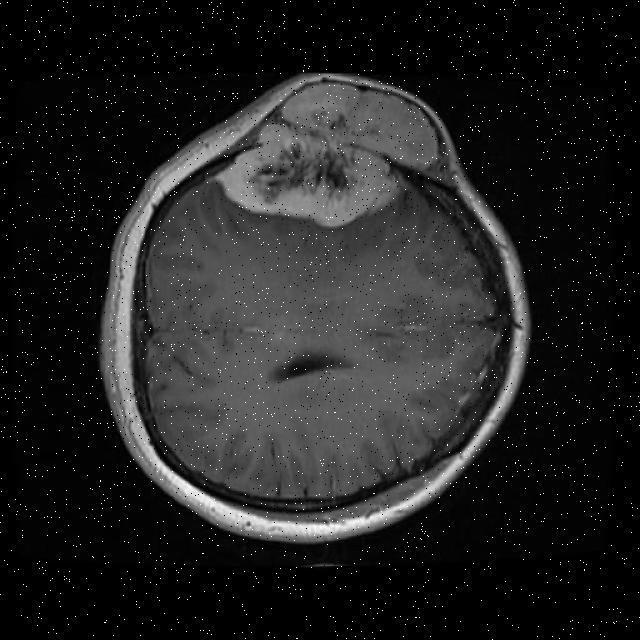Meningioma: (215, 77, 453, 227)
